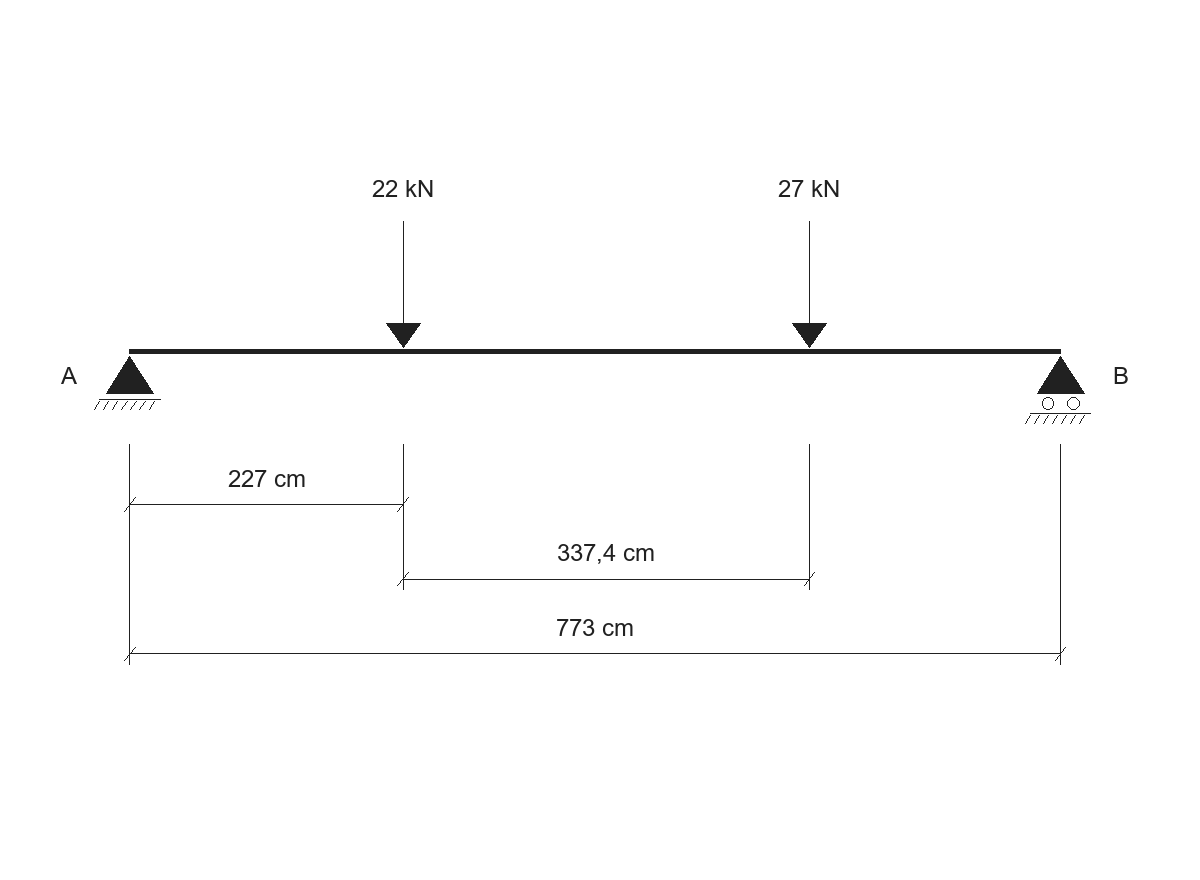pin_support: (94, 356, 161, 410)
point_load: (386, 221, 421, 348), (792, 221, 827, 348)
roller_support: (1025, 356, 1091, 424)
